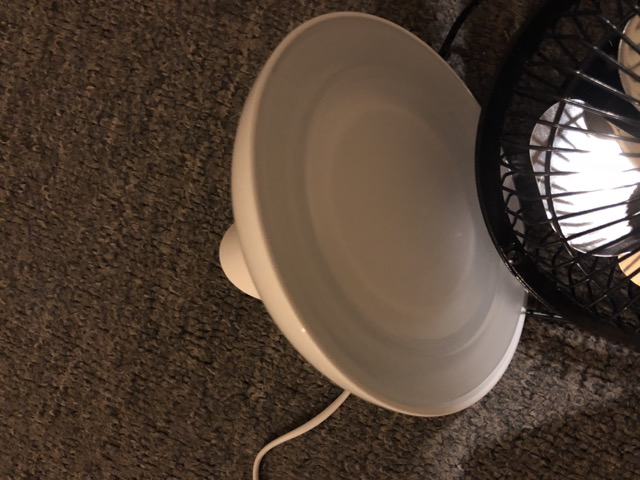fan: (451, 18, 640, 342)
light: (219, 13, 530, 432)
